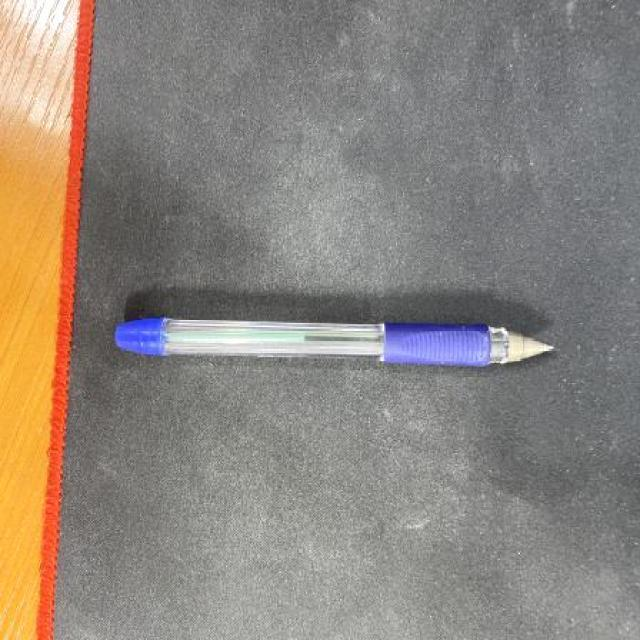Pen - Non Recyclable: (112, 317, 552, 367)
